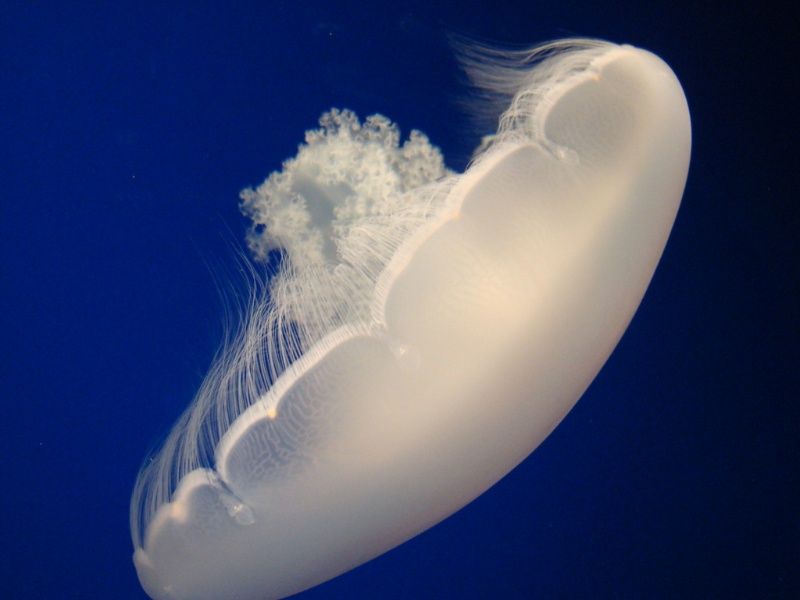Jellyfish: (131, 0, 708, 600)
